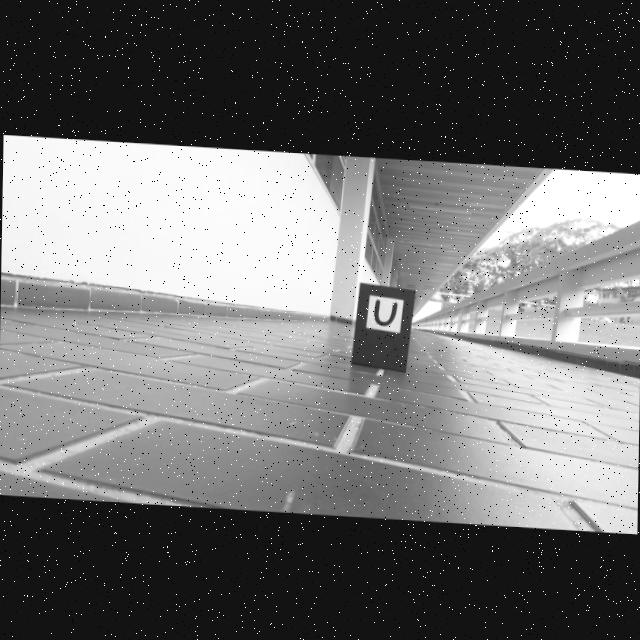U: (374, 296, 398, 322)
